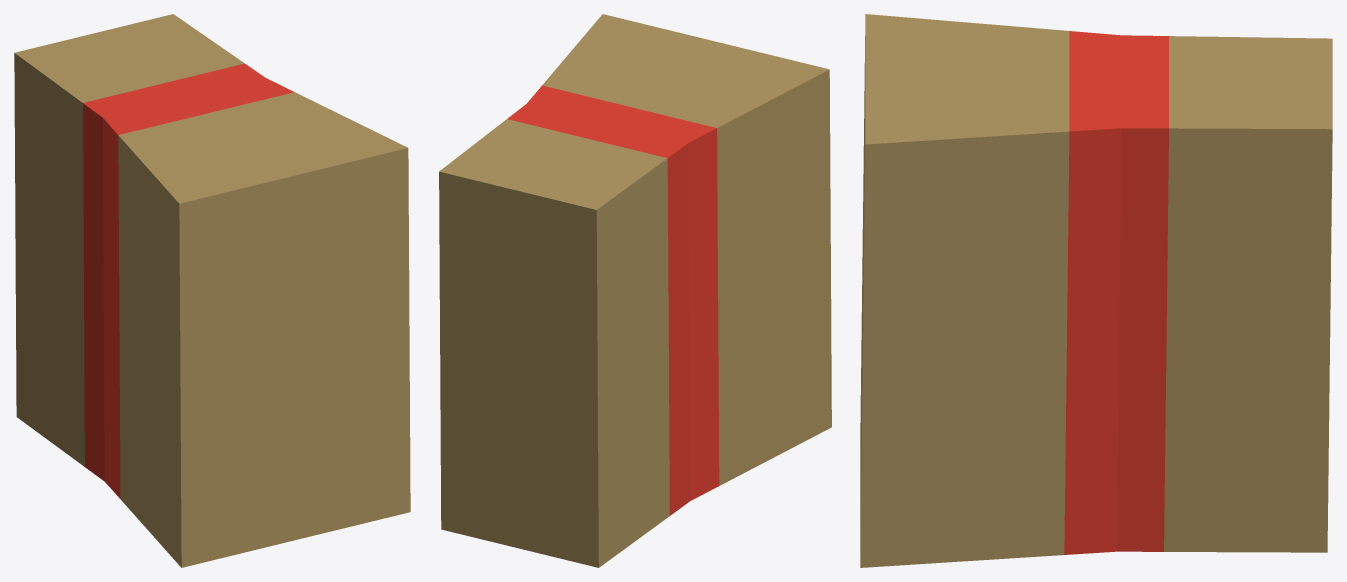
File: road_block.fbx
3 views of the same model, side by side, from view 1: azimuth 30°, elevation 25°; view 2: azimuth 150°, elevation 25°; view 3: azimuth 270°, elevation 25° (orthographic). The views are drawn at different scales.
Parts seen in each view (by area): view 1: Cube; view 2: Cube; view 3: Cube.
Boxes of the visible parts, box(x1,y1,x2,y2) form: Cube: box(14, 14, 410, 567); Cube: box(439, 14, 831, 567); Cube: box(860, 14, 1332, 567).
Size of the model in its own units: 132 by 202 by 202.
